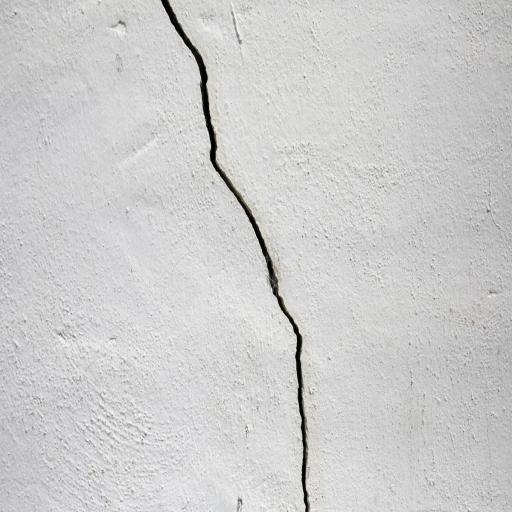spalling: (155, 3, 321, 512)
